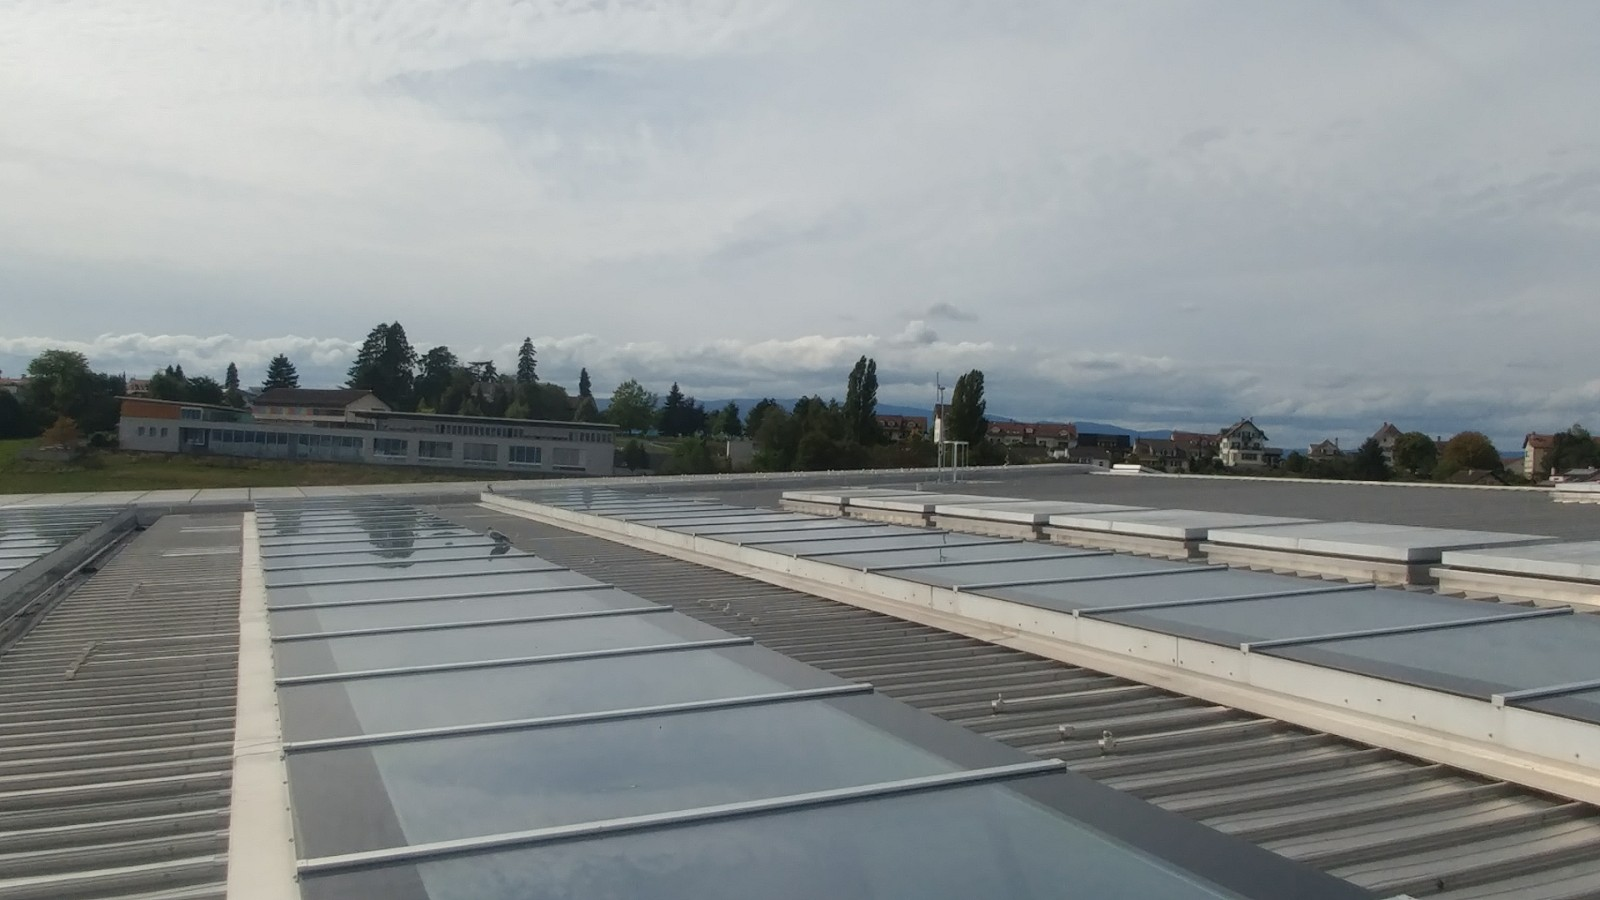Pigeon: (480, 523, 516, 546)
